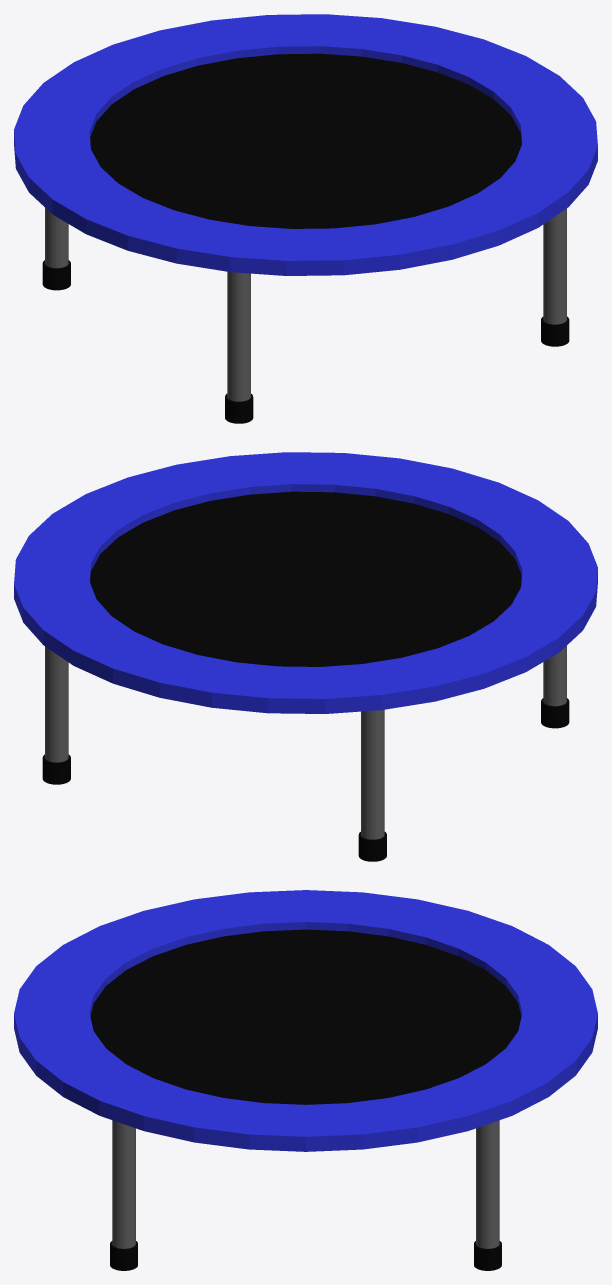
The model's file is trampolin.fbx.
3 views of the same model, one above another, from view 1: azimuth 30°, elevation 25°; view 2: azimuth 150°, elevation 25°; view 3: azimuth 270°, elevation 25° (orthographic).
Parts seen in each view (by area): view 1: Cylinder; view 2: Cylinder; view 3: Cylinder.
Part boxes in pixels (box(x1,y1,x2,y2)): Cylinder: box(14, 14, 597, 423); Cylinder: box(14, 452, 597, 861); Cylinder: box(14, 890, 597, 1270).
Size of the model in its own units: 200 by 66 by 200.
